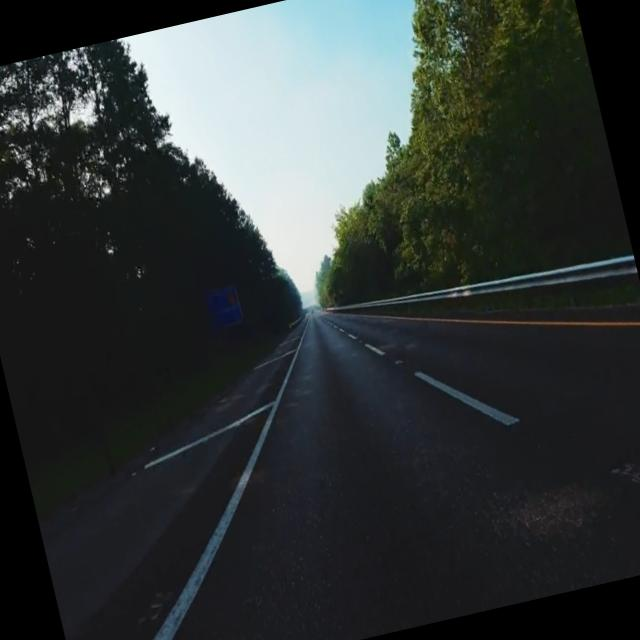asphalt: (175, 312, 640, 640)
